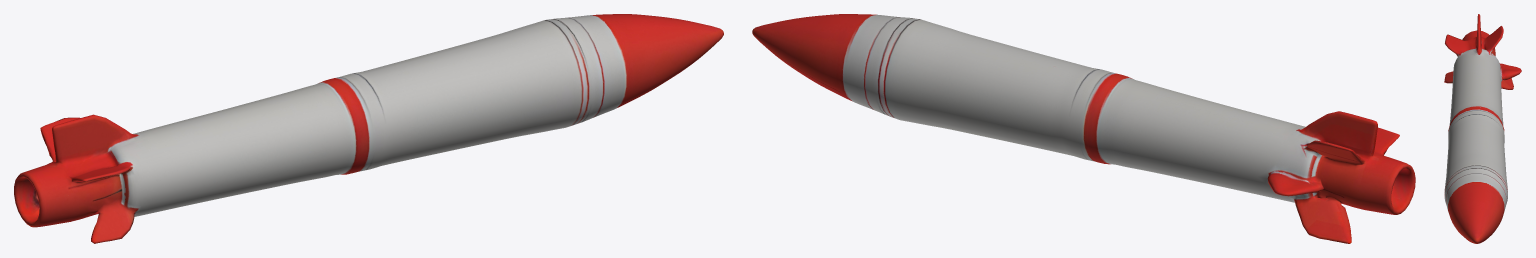
File: tripo_convert_3272a9f3-2009-4d33-8299-6155220a8cbc.fbx
The picture shows the model from 3 angles, left to right: view 1: azimuth 30°, elevation 25°; view 2: azimuth 150°, elevation 25°; view 3: azimuth 270°, elevation 25°; orthographic projection. The views are drawn at different scales.
Parts seen in each view (by area): view 1: tripo_node_3272a9f3; view 2: tripo_node_3272a9f3; view 3: tripo_node_3272a9f3.
Part boxes in pixels (x1,y1,x2,y2): tripo_node_3272a9f3: (14,14,723,243); tripo_node_3272a9f3: (752,14,1415,243); tripo_node_3272a9f3: (1444,14,1521,243).
Bounding box in the file's own units: 99.99 × 16.38 × 16.64.
Materials: 1 (1 with a texture image).
